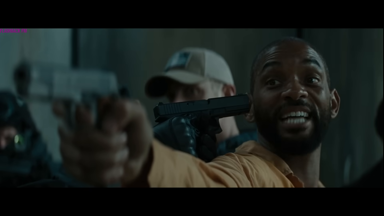firearm: (8, 58, 123, 129), (147, 92, 250, 146)
